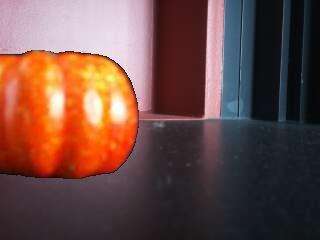Pumpkin: (0, 50, 139, 180)
